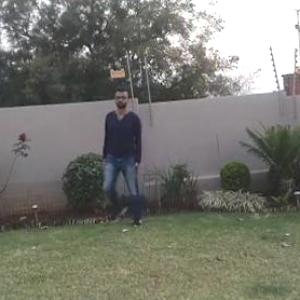follow: (103, 86, 151, 235)
